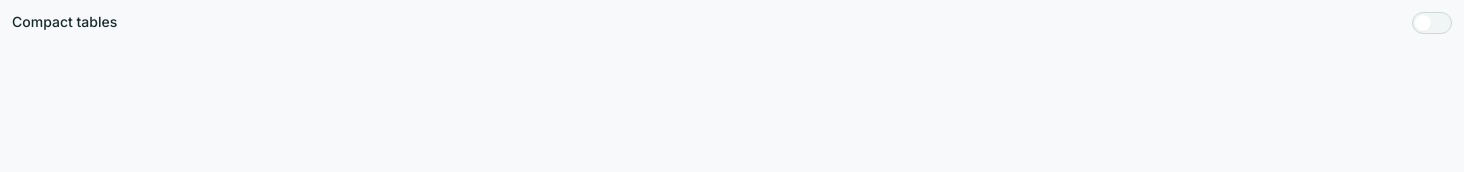
Test: Switch (§26) › exposes role=switch with aria-checked and toggles (controlled)
This screenshot has width=1464, height=172.
What coordinates should you click on to do the following:
click the switch named "Compact tables"
I would click on:
 (1432, 23)
Its box is x1=1412 y1=12 x2=1452 y2=34.
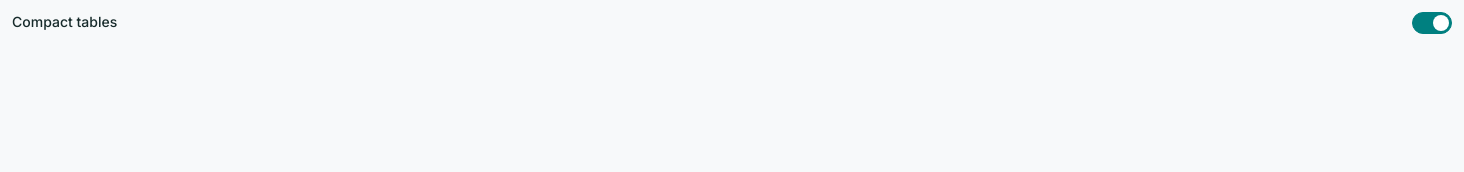
Check: the switch named "Compact tables" is checked, box x1=1412 y1=12 x2=1452 y2=34
